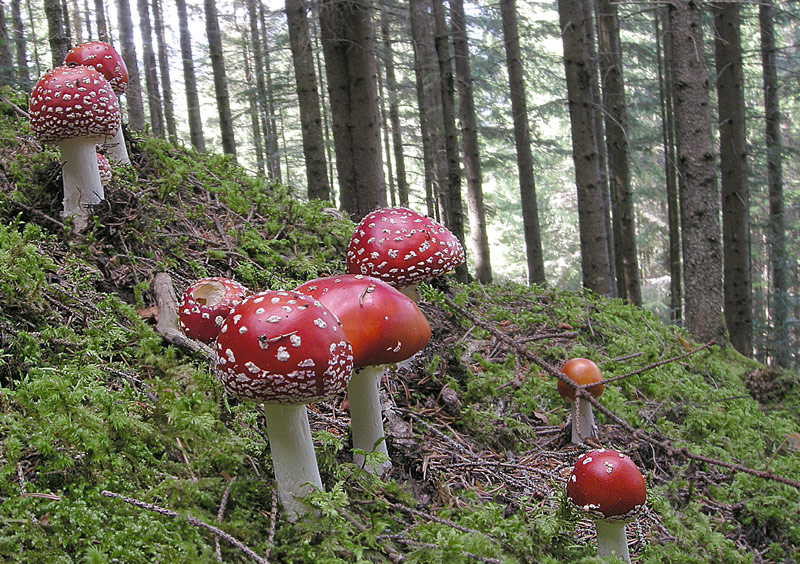apple: (565, 448, 644, 517)
person: (26, 39, 128, 228)
